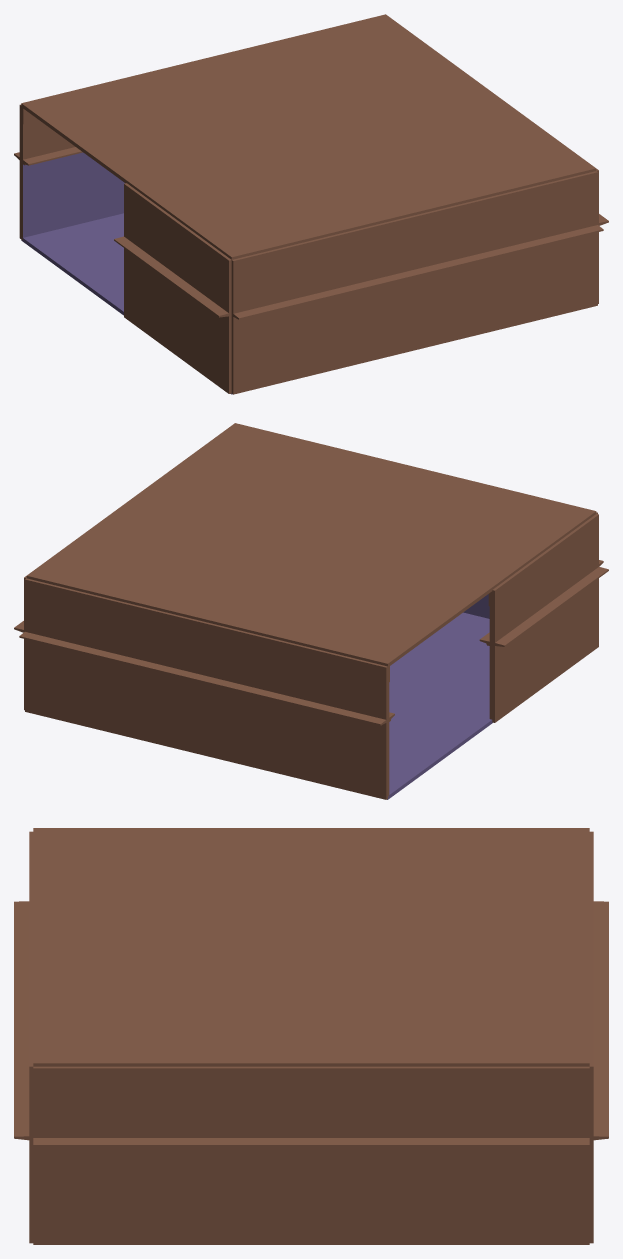
File: BedRoom.fbx
3 views of the same model, one above another, from view 1: azimuth 30°, elevation 25°; view 2: azimuth 150°, elevation 25°; view 3: azimuth 270°, elevation 25° (orthographic). The views are drawn at different scales.
Parts seen in each view (by area): view 1: Cube.003, Cube.005, Cube.004, Cube, Cube.002; view 2: Cube.003, Cube, Cube.004, Cube.002; view 3: Cube.003, Cube.001, Cube, Cube.005.
Boxes of the visible parts, x1,y1,x2,y2 form: Cube.003: [21, 14, 596, 259]; Cube.005: [231, 171, 603, 394]; Cube.004: [114, 183, 231, 393]; Cube: [14, 104, 124, 240]; Cube.002: [21, 213, 232, 394]; Cube.003: [26, 423, 596, 666]; Cube: [19, 578, 394, 799]; Cube.004: [479, 514, 608, 722]; Cube.002: [387, 612, 492, 799]; Cube.003: [33, 828, 589, 1066]; Cube.001: [33, 1066, 589, 1244]; Cube: [589, 831, 608, 1243]; Cube.005: [14, 831, 33, 1243].
Size of the model in its own units: 1070 by 360 by 1070.
